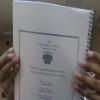notebook: (12, 0, 95, 99)
